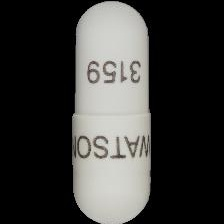0591-3159: (0, 0, 224, 224)
